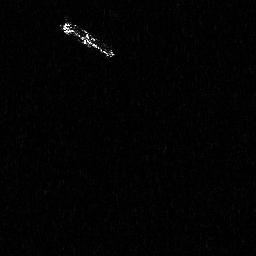ship: (58, 20, 115, 58)
